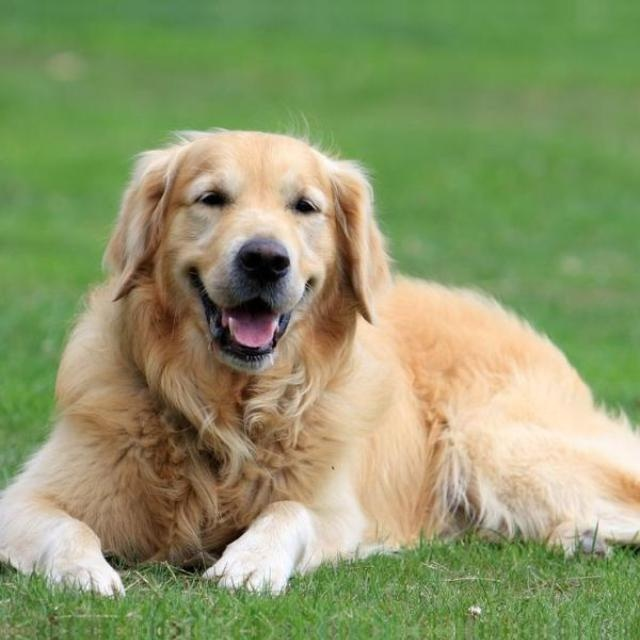dog: (0, 103, 624, 617)
